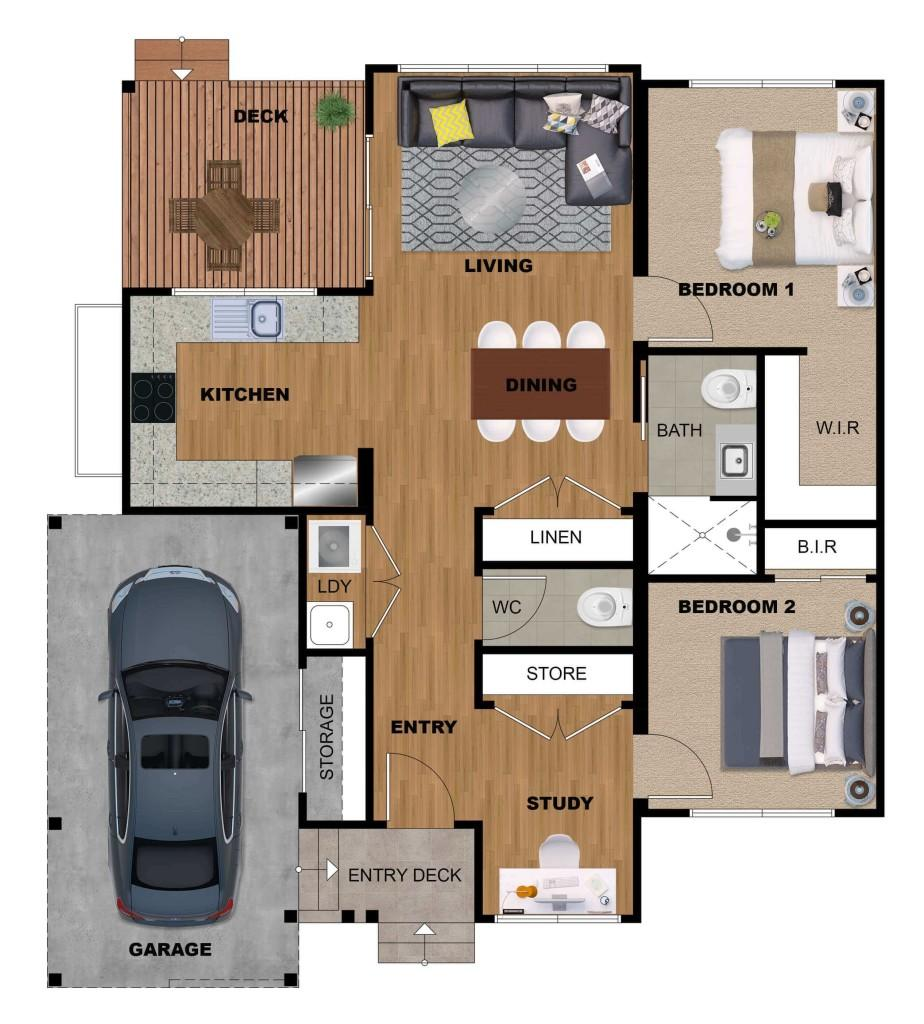room: (370, 68, 641, 818), (641, 85, 881, 351), (639, 577, 881, 815), (127, 290, 370, 509), (640, 350, 761, 576), (763, 352, 881, 524), (477, 566, 640, 649)
